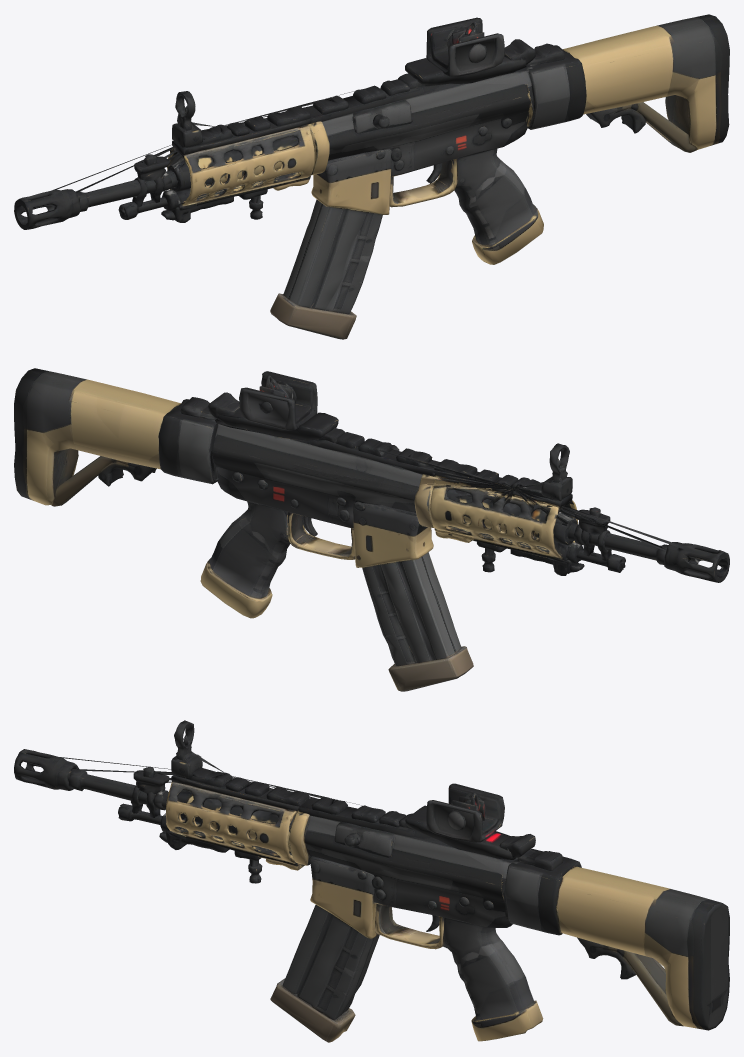
Rendered from AvatarRifle_v132.glb.
3 renders of one model, top to bottom at view 1: azimuth 30°, elevation 25°; view 2: azimuth 150°, elevation 25°; view 3: azimuth 330°, elevation 25°, orthographic.
Size of the model in its own units: 1 by 0.3838 by 0.0879.
1 material, 1 textured.
